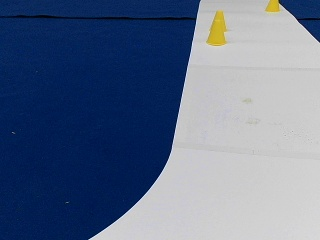cone: (206, 11, 228, 45), (264, 0, 279, 11)
